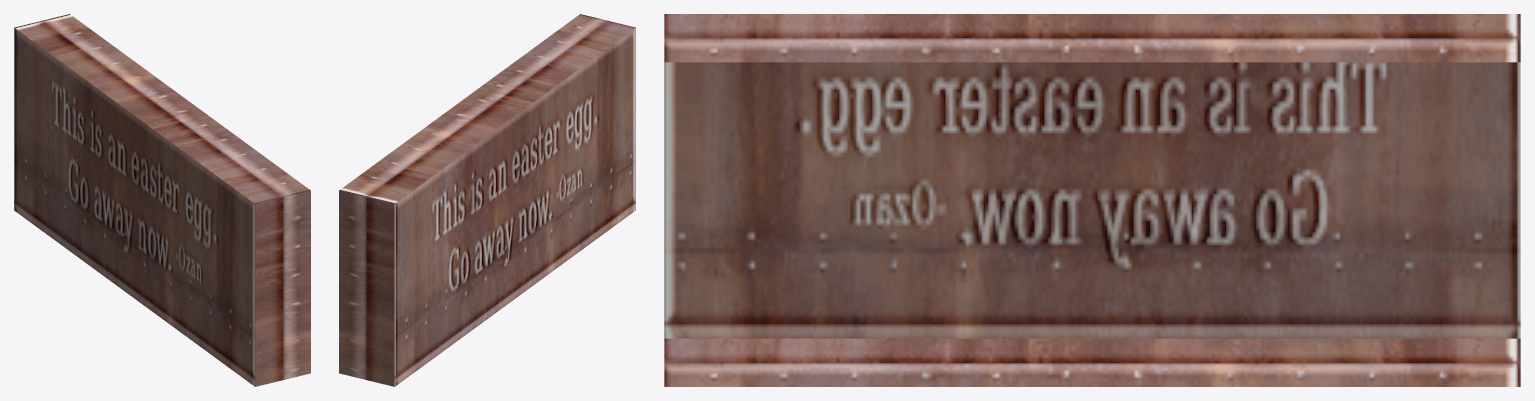
File: ozan_go_away.fbx
The picture shows the model from 3 angles, left to right: view 1: azimuth 30°, elevation 25°; view 2: azimuth 150°, elevation 25°; view 3: azimuth 270°, elevation 25°; orthographic projection. The views are drawn at different scales.
Visible parts, largest first — view 1: Bazaar Complex Easteregg; view 2: Bazaar Complex Easteregg; view 3: Bazaar Complex Easteregg.
Part boxes in pixels (x1,y1,x2,y2): Bazaar Complex Easteregg: (14, 14, 310, 386); Bazaar Complex Easteregg: (339, 14, 635, 386); Bazaar Complex Easteregg: (664, 14, 1520, 386).
Size of the model in its own units: 0.3361 by 1.06 by 2.52.
